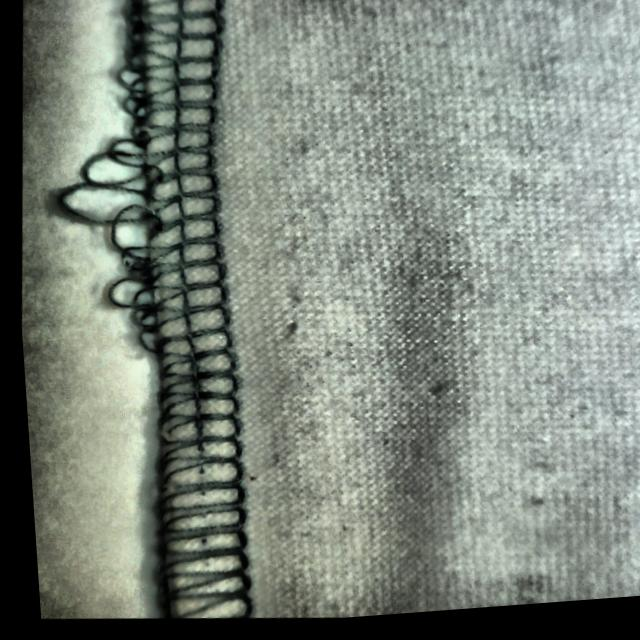Stitch: (30, 0, 253, 368)
